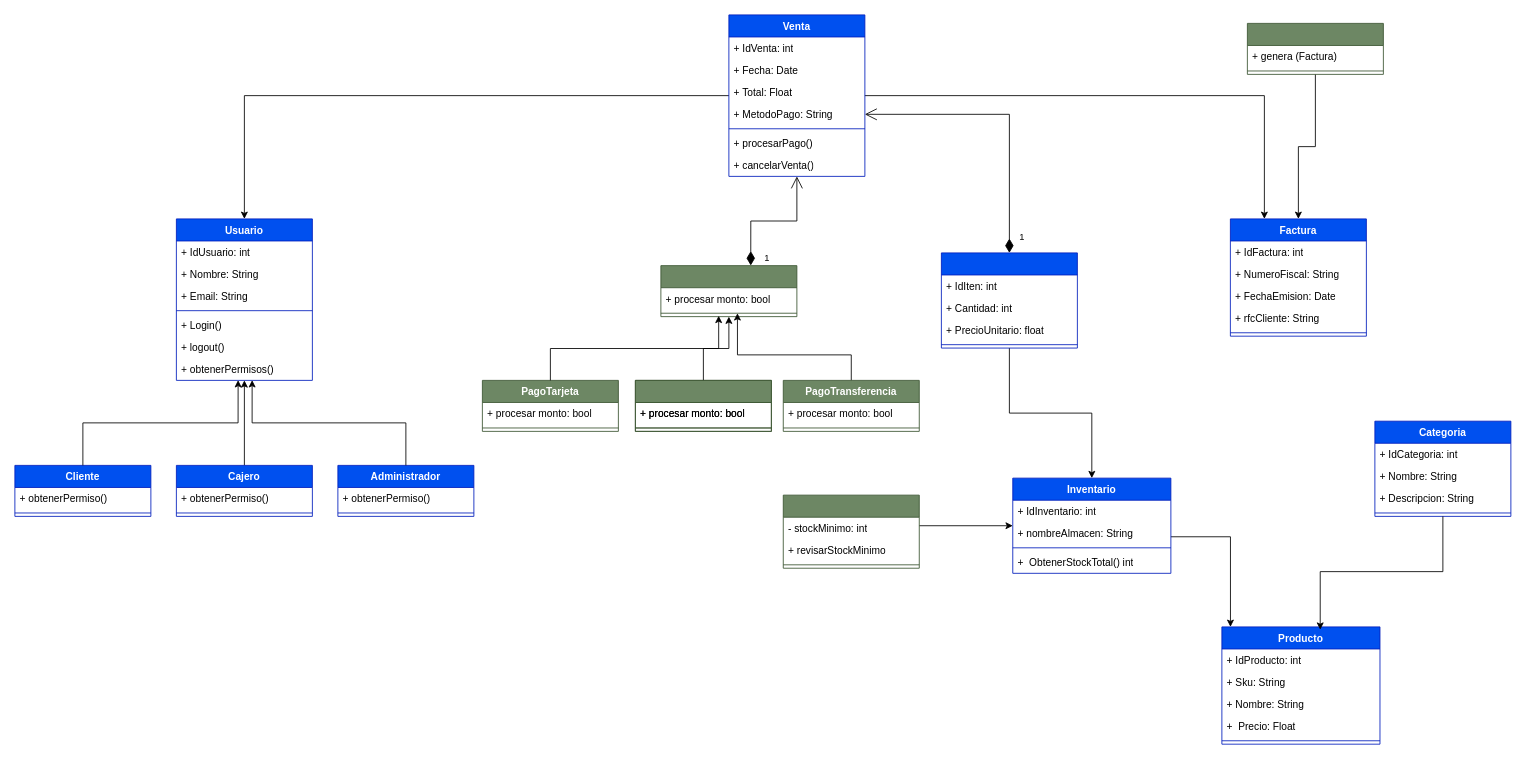
Some shapes in this 1526 by 759 pixel diagram are drawn without their labels. The box of each missing label's shape, as (x1, y1, x2, y2) in pixels:
GeneradorFacturaPDF: (1247, 23, 1383, 74)
GestorAlertasStock: (782, 494, 919, 568)
ItemVenta: (941, 252, 1077, 348)
PagoEfectivo: (635, 380, 771, 431)
ProcesadorPago: (660, 265, 797, 317)
